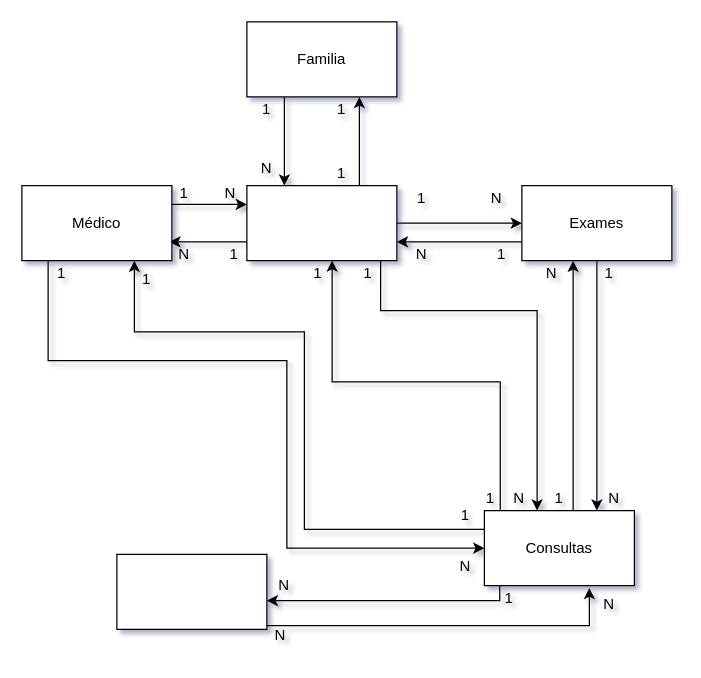
This 701x678 diagram has some shape labels left out. The shapes that lost their labels are listed below. From the top down, each one's centre as x and y in pixels, then its label:
the point at 321,222: Paciente
the point at 191,591: Medicação
